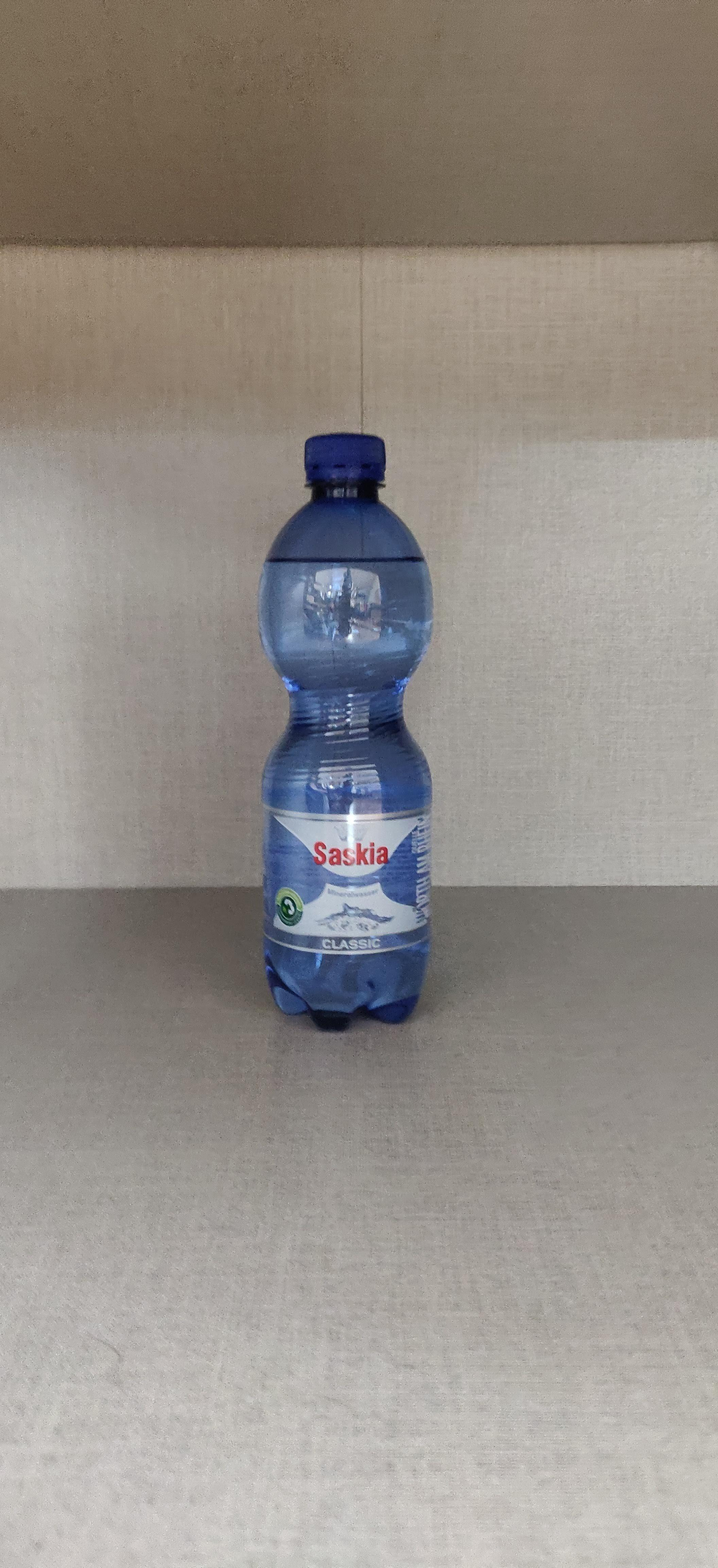bottle-plastic: (253, 425, 440, 1036)
